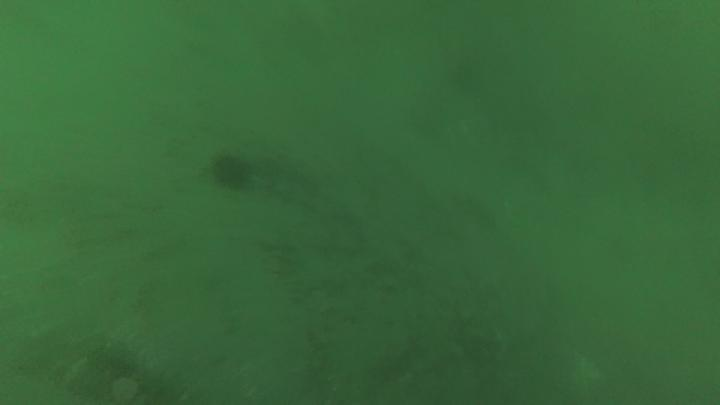echinus: (206, 148, 259, 194)
